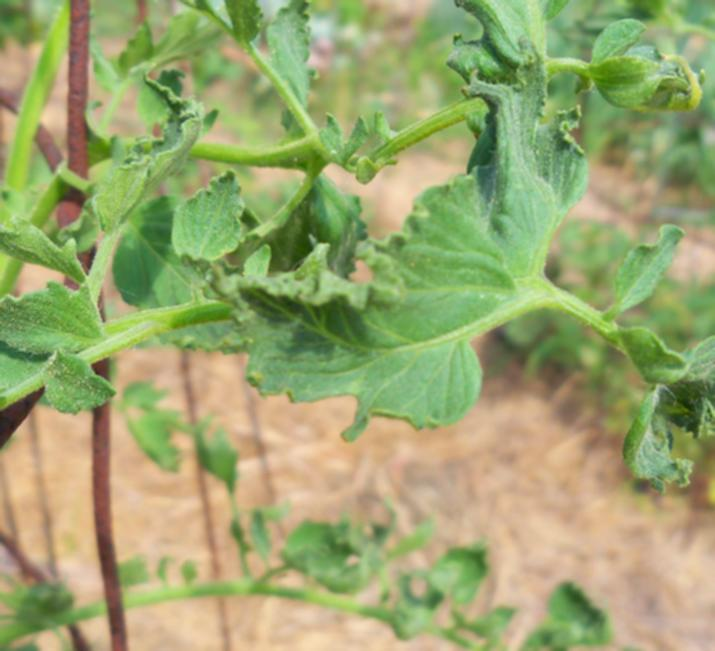Tomato leaf mosaic virus: (245, 174, 552, 426), (431, 0, 591, 296), (612, 301, 715, 512), (0, 279, 112, 427), (165, 168, 251, 263), (267, 0, 319, 114)
